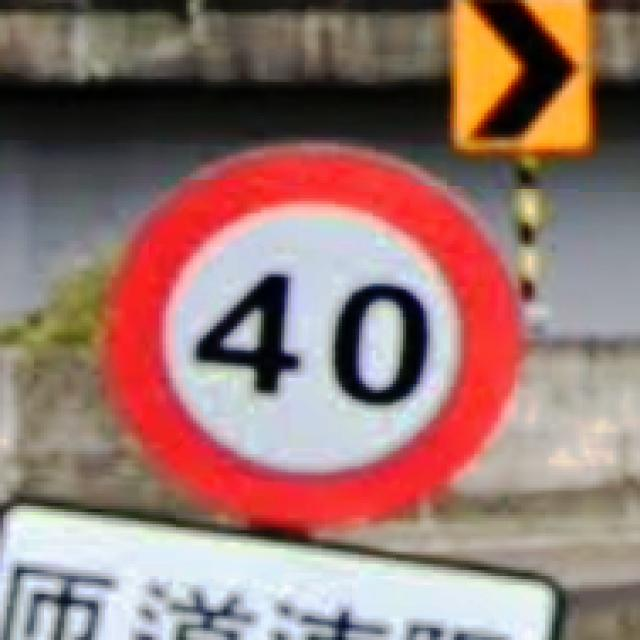max40: (95, 134, 528, 533)
